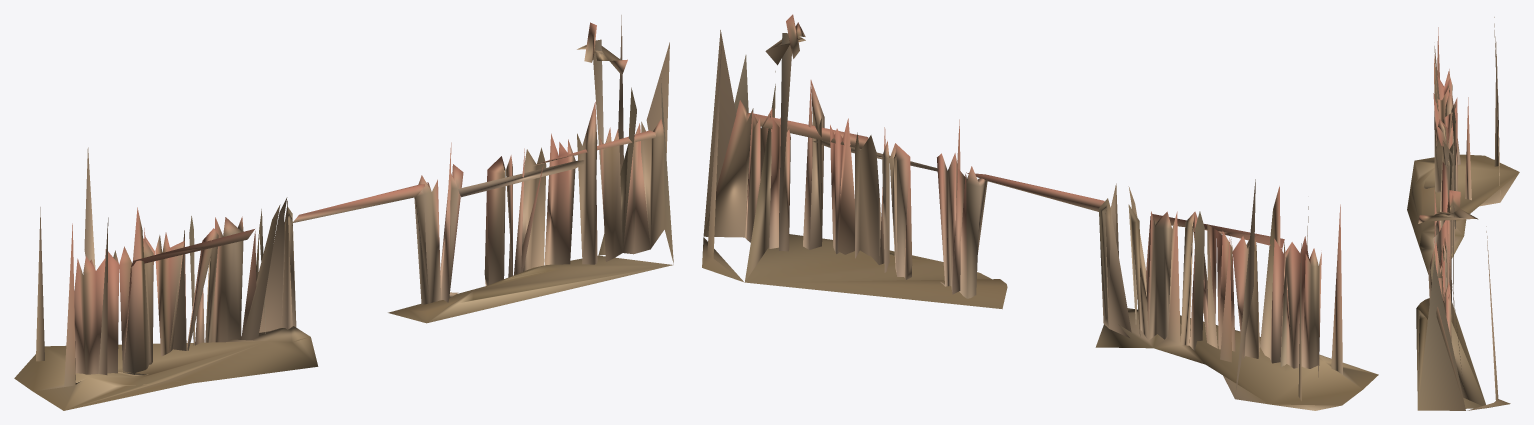
Rendered from portal_madera_b_lejos.glb.
3 views of the same model, side by side, from view 1: azimuth 30°, elevation 25°; view 2: azimuth 150°, elevation 25°; view 3: azimuth 270°, elevation 25° (orthographic). The views are drawn at different scales.
Visible parts, largest first — view 1: portal_madera_b_lejos; view 2: portal_madera_b_lejos; view 3: portal_madera_b_lejos.
Boxes of the visible parts, <box> form: portal_madera_b_lejos: <box>14,15,673,410</box>; portal_madera_b_lejos: <box>702,14,1378,410</box>; portal_madera_b_lejos: <box>1407,17,1519,410</box>.
Size of the model in its own units: 9.4 by 3.71 by 1.75.
